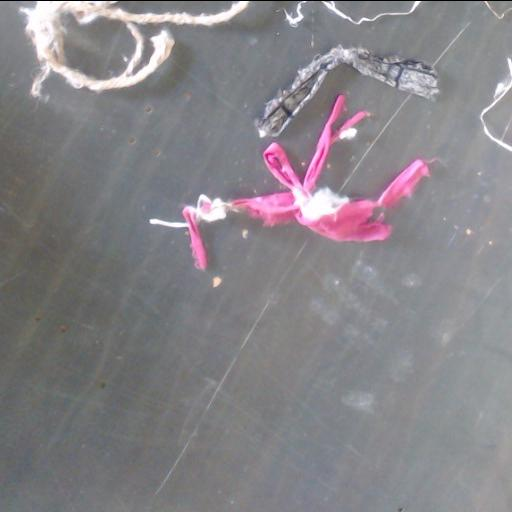cloth: (183, 95, 428, 266), (256, 46, 439, 136)
conveyor belt: (0, 1, 511, 512)
jute: (22, 1, 249, 95)
thread: (480, 57, 511, 152), (480, 58, 511, 151), (321, 1, 422, 24), (284, 1, 308, 26), (484, 1, 511, 18)
